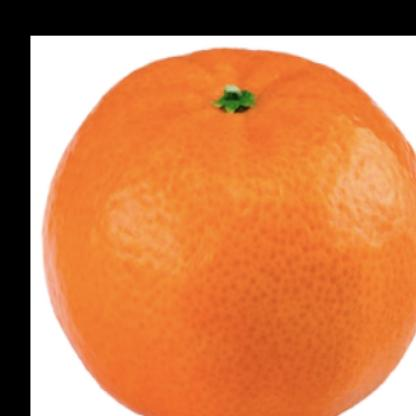fresh: (42, 49, 416, 416)
